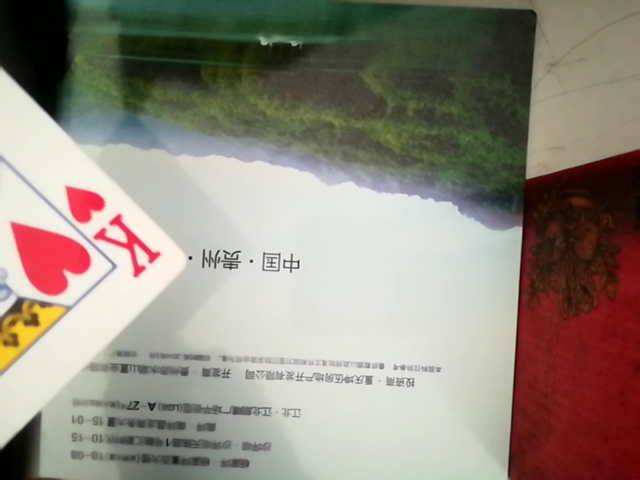hx k: (0, 34, 187, 477)
